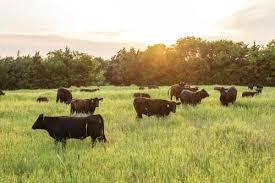cow: (32, 113, 110, 153), (133, 96, 181, 120), (70, 97, 103, 114), (180, 89, 210, 106), (168, 85, 199, 100), (218, 87, 237, 106), (56, 88, 73, 105), (79, 87, 100, 93), (241, 91, 258, 98), (36, 97, 49, 103), (256, 84, 264, 90), (148, 85, 159, 89), (255, 89, 262, 95), (248, 85, 254, 90), (138, 87, 146, 90)
